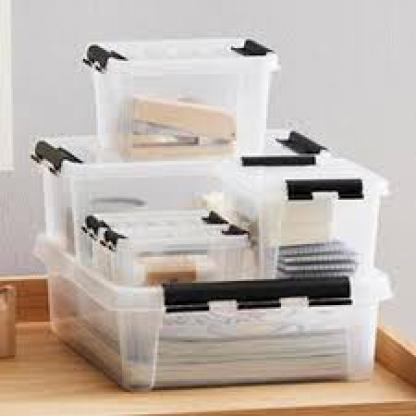plastic_box: (64, 13, 298, 164)
